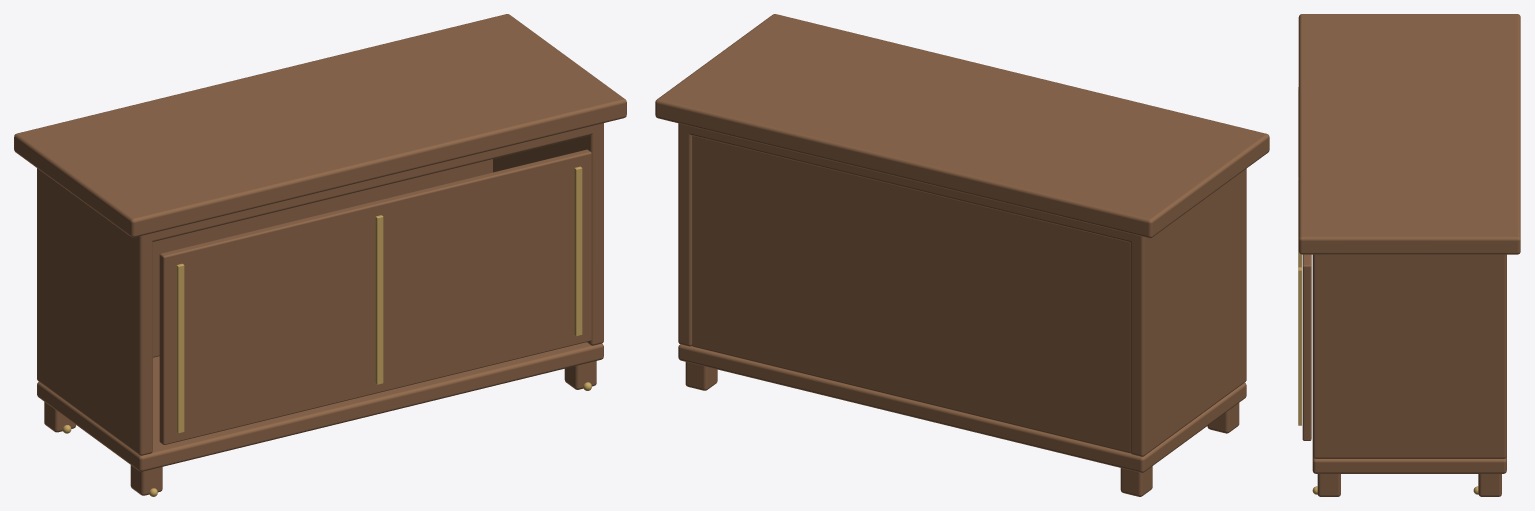
The model's file is clockmaker-and-watch-repair-shop-reception-counter-4b43e50b__30642.glb.
3 renders of one model, left to right at view 1: azimuth 30°, elevation 25°; view 2: azimuth 150°, elevation 25°; view 3: azimuth 270°, elevation 25°, orthographic. The views are drawn at different scales.
Visible parts, largest first — view 1: shop-reception-counter; view 2: shop-reception-counter; view 3: shop-reception-counter.
Part boxes in pixels (x1=…): shop-reception-counter: x1=14, y1=14, x2=626, y2=496; shop-reception-counter: x1=655, y1=14, x2=1269, y2=496; shop-reception-counter: x1=1298, y1=14, x2=1520, y2=496.
Size of the model in its own units: 1.92 by 1.08 by 0.802.
